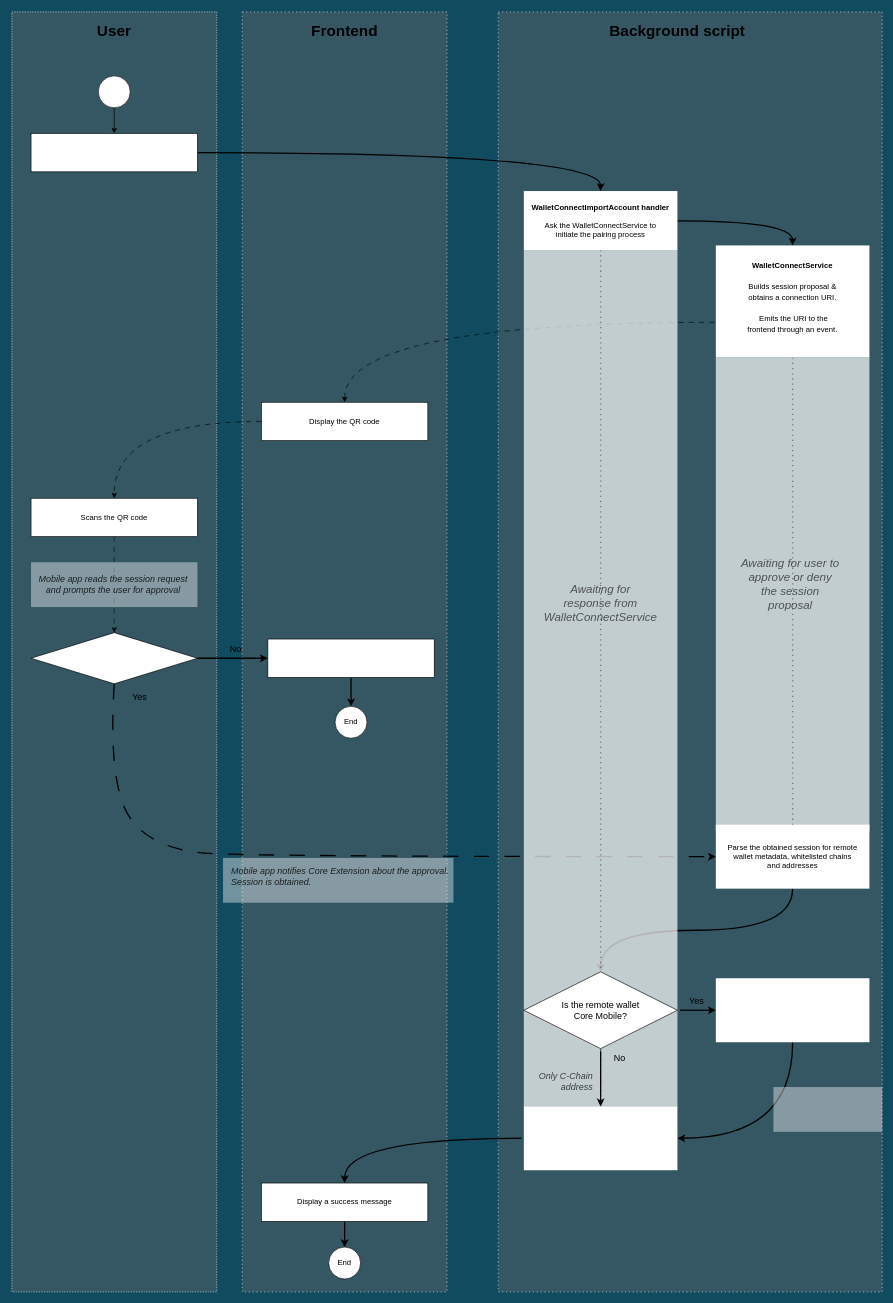
The diagram is 893 pixels wide and 1303 high, and some of its shapes have lost their labels. Each missing label, with the centre of its shape:
"Add a new account with all known information" goes at (x=600, y=1138).
"Approve?" goes at (x=113, y=658).
"C / P / X-Chain address + the BTC address + the public key" goes at (x=827, y=1109).
"Clicks Import with WalletConnect" goes at (x=113, y=152).
"Display an error" goes at (x=350, y=657).
"Fetch the public key and addresses for BTC, C, P and X chains" goes at (x=792, y=1010).
